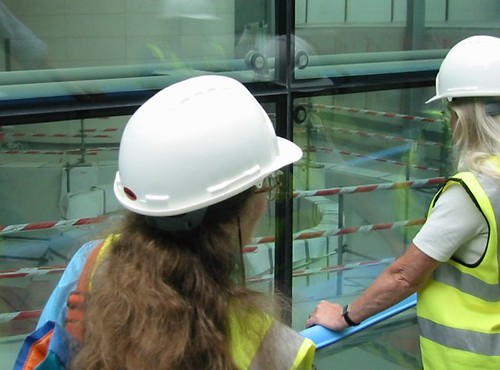person hardhat: (37, 74, 318, 370), (401, 30, 500, 370)
